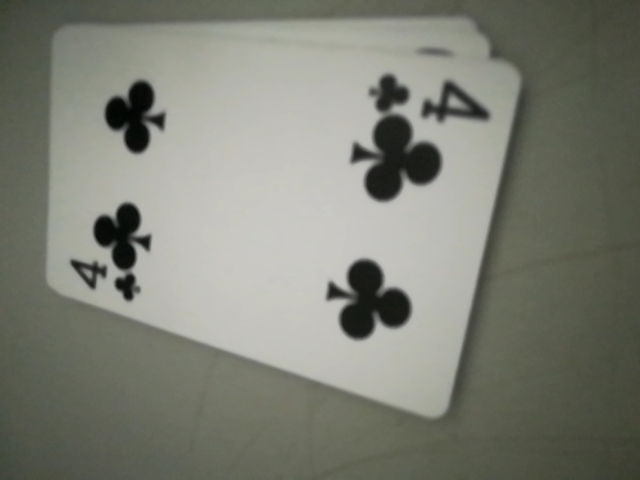mh 4: (366, 63, 497, 124), (62, 253, 146, 306)
